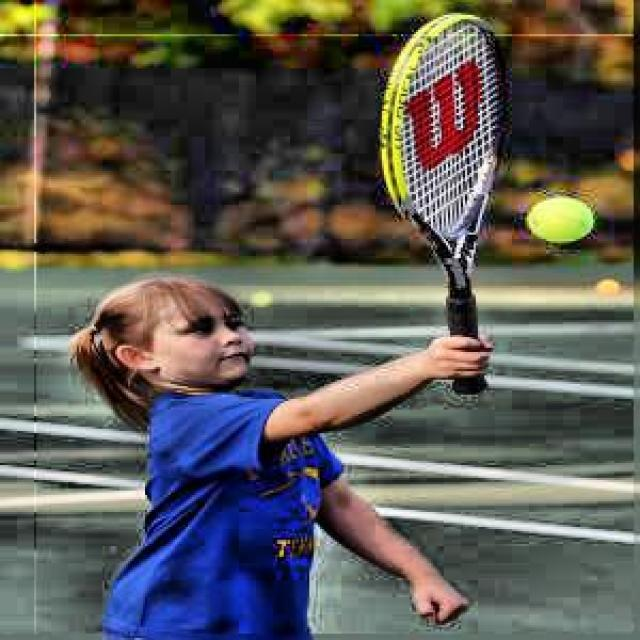tennis-ball: (527, 198, 595, 238), (595, 280, 619, 299), (251, 290, 275, 305)
